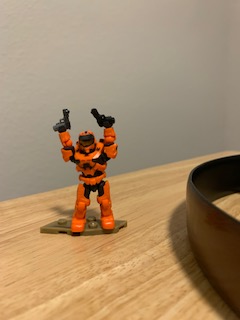pistol: (87, 105, 119, 129), (51, 107, 74, 135)
spartan: (55, 120, 120, 234)
up: (53, 119, 119, 177)
